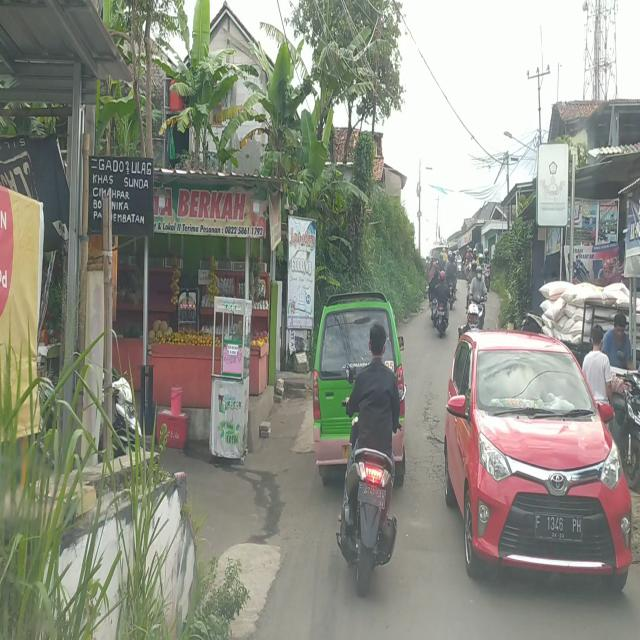Drain Hole: (416, 387, 445, 489)
